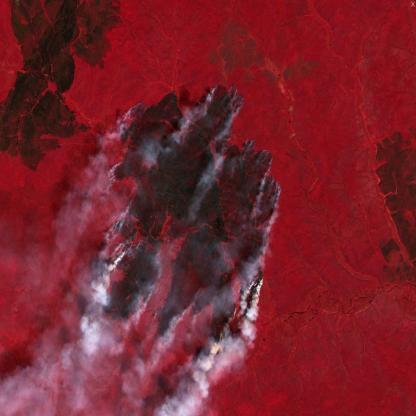fire: (95, 75, 284, 362)
